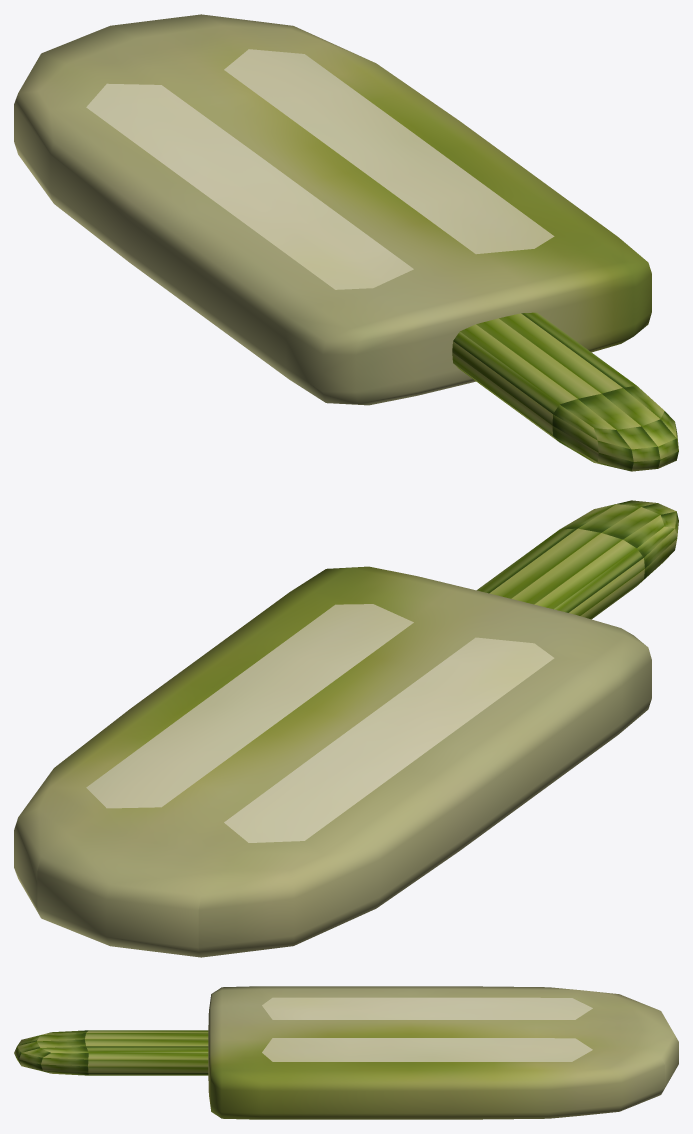
The model's file is OBS0110279.fbx.
The picture shows the model from 3 angles, top to bottom: view 1: azimuth 30°, elevation 25°; view 2: azimuth 150°, elevation 25°; view 3: azimuth 270°, elevation 25°; orthographic projection. The views are drawn at different scales.
Visible parts, largest first — view 1: smOBS0110279; view 2: smOBS0110279; view 3: smOBS0110279.
Part boxes in pixels (box(x1,y1,x2,y2)): smOBS0110279: box(14, 14, 678, 471); smOBS0110279: box(14, 500, 678, 957); smOBS0110279: box(14, 986, 678, 1119).
Size of the model in its own units: 105 by 23.96 by 299.
